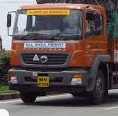truck: (5, 1, 113, 105)
